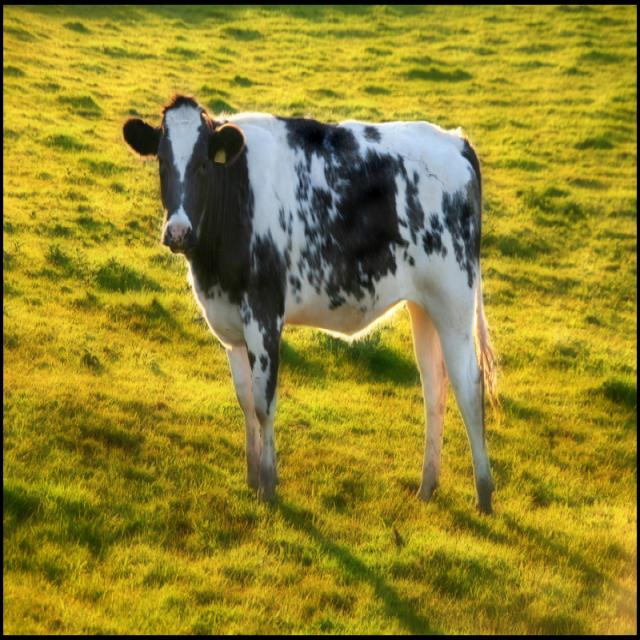cow: (124, 96, 494, 511)
